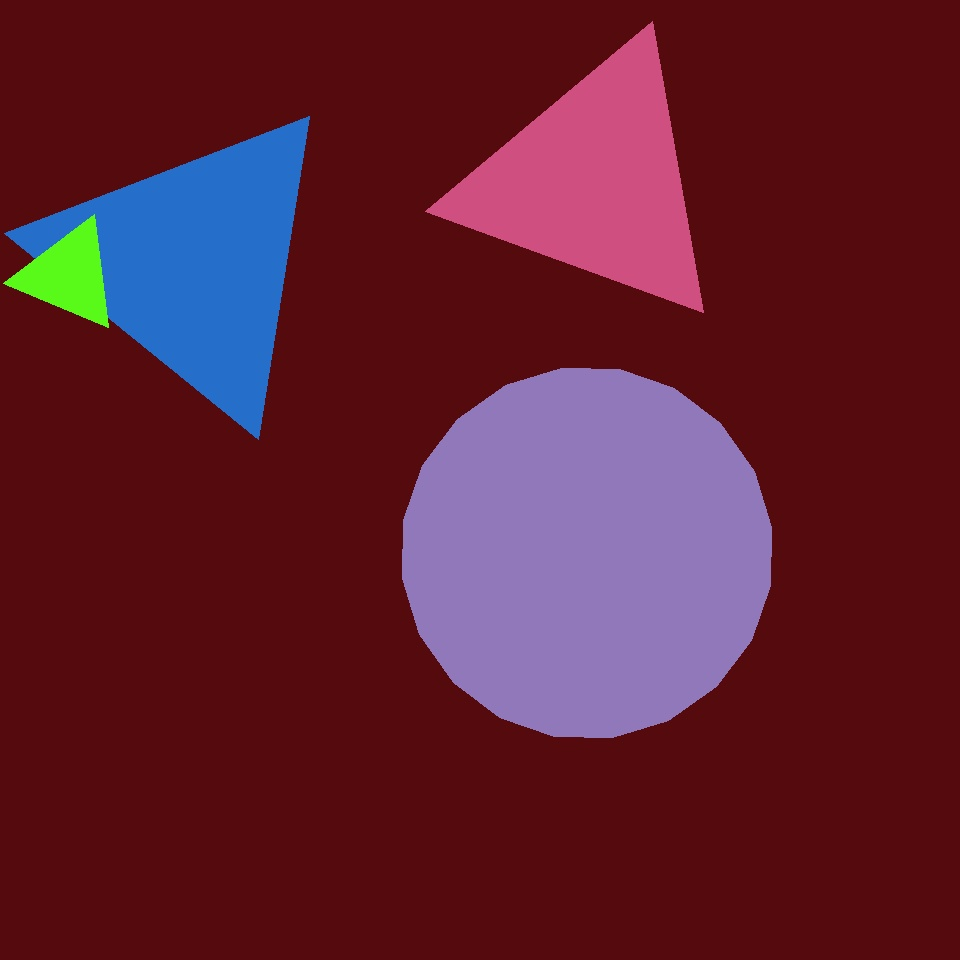circle: (38, 102, 344, 425), (455, 36, 733, 328), (16, 218, 122, 331)
triangle: (402, 368, 772, 738), (216, 228, 583, 594), (687, 545, 795, 653)
